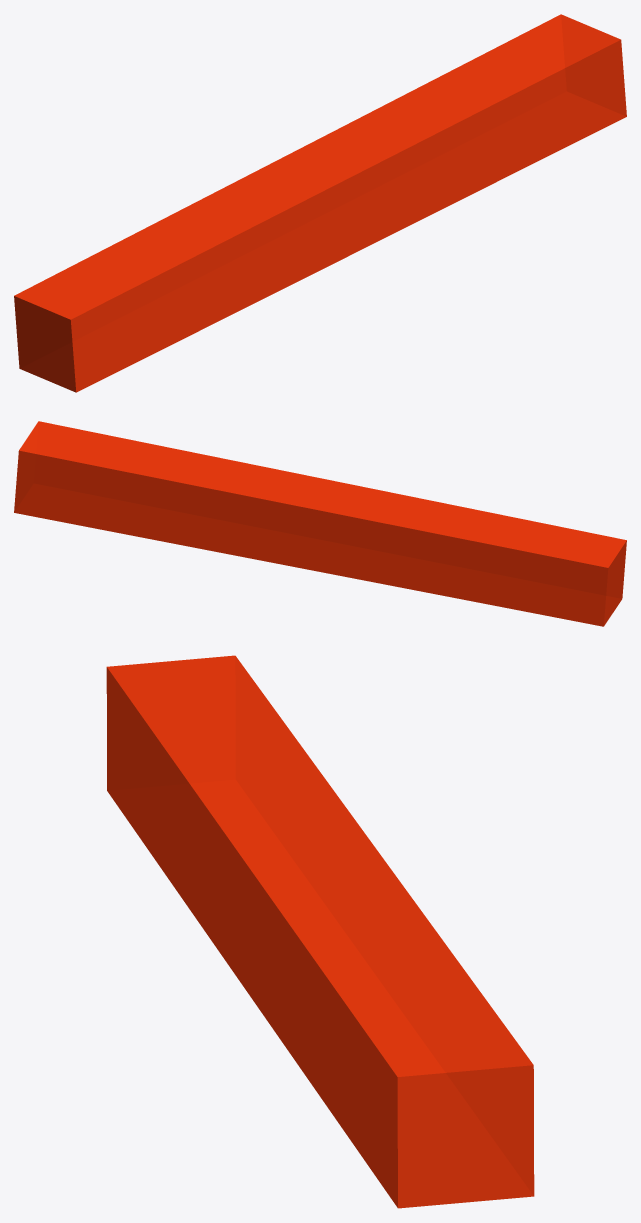
File: Event_421115418_EErechit_81.fbx
3 views of the same model, one above another, from view 1: azimuth 30°, elevation 25°; view 2: azimuth 150°, elevation 25°; view 3: azimuth 270°, elevation 25° (orthographic). The views are drawn at different scales.
Visible parts, largest first — view 1: Model; view 2: Model; view 3: Model.
Part boxes in pixels (x1,y1,x2,y2): Model: [14, 14, 626, 392]; Model: [14, 421, 626, 626]; Model: [106, 655, 534, 1208].
Bounding box in the file's own units: 0.6755 × 0.1297 × 0.2342.
